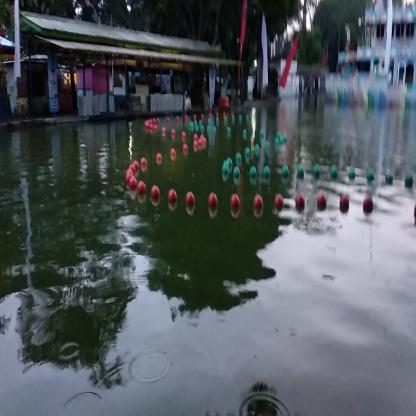green_buoy: (231, 162, 241, 184), (385, 168, 394, 187), (331, 161, 339, 182), (248, 166, 258, 182), (405, 170, 413, 190), (296, 162, 304, 180), (312, 162, 320, 180), (365, 166, 374, 182), (264, 166, 272, 184), (225, 156, 233, 173), (222, 166, 230, 182), (347, 165, 355, 180), (244, 148, 252, 162), (282, 164, 289, 178), (254, 144, 261, 157), (236, 152, 242, 163)
red_buoy: (207, 193, 220, 220), (336, 196, 350, 216), (362, 196, 374, 218), (230, 196, 241, 218), (294, 194, 306, 214), (254, 193, 264, 216), (186, 190, 195, 214), (169, 188, 178, 210), (151, 185, 160, 206), (131, 158, 140, 178), (154, 151, 164, 167), (275, 194, 285, 210), (138, 179, 147, 196), (316, 196, 324, 212), (130, 177, 137, 194), (170, 147, 177, 163), (126, 171, 134, 184), (141, 156, 148, 169), (182, 142, 187, 155), (194, 140, 198, 152)
